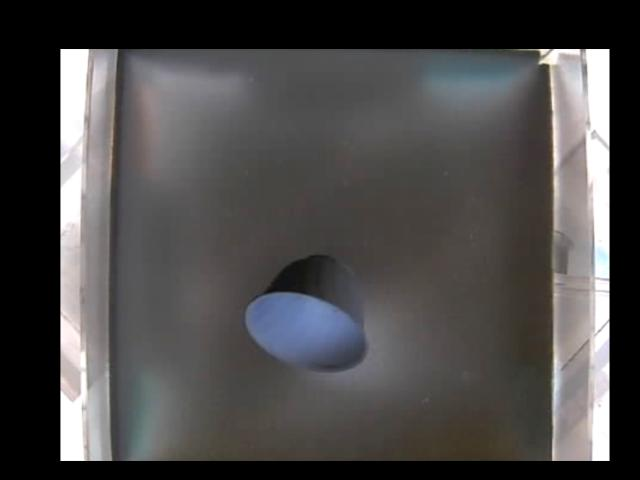Cup: (246, 254, 366, 373)
